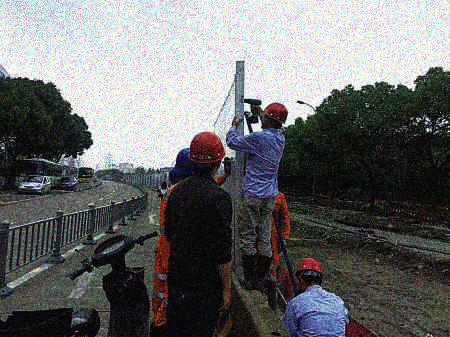helmet: (188, 131, 227, 175), (295, 257, 327, 293), (260, 102, 289, 131), (176, 148, 201, 181)
